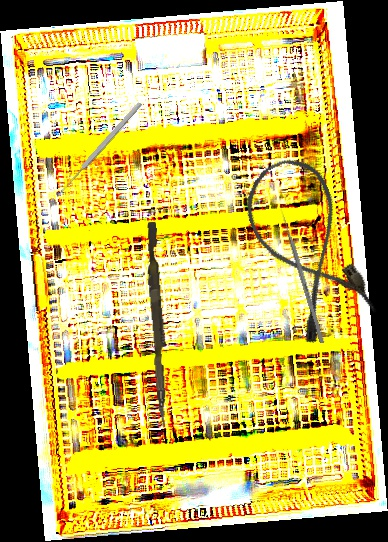Cannula: (232, 148, 382, 347)
Pusher: (142, 221, 174, 429), (278, 205, 325, 344)
Surgical Spoon: (54, 101, 144, 198)
